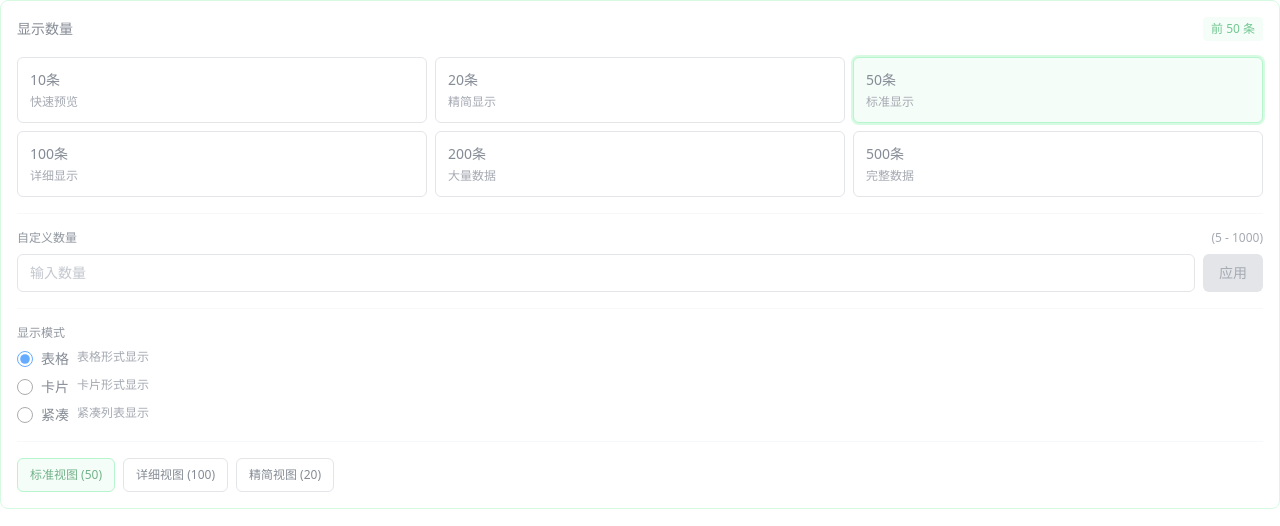
Test: HotWordLimitSelector › 自定义数量功能 › 应该通过回车键应用自定义数量
Type "85" into the number field with id "custom-limit" at (606, 273), box [17,254,1195,292]
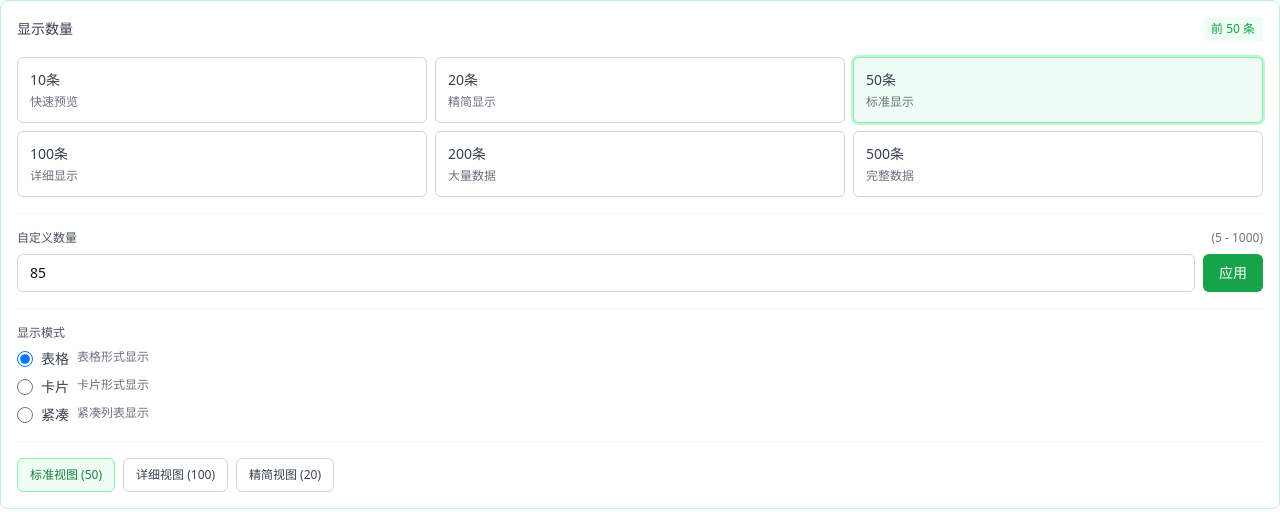
Press Enter in the number field with id "custom-limit", box [17,254,1195,292]
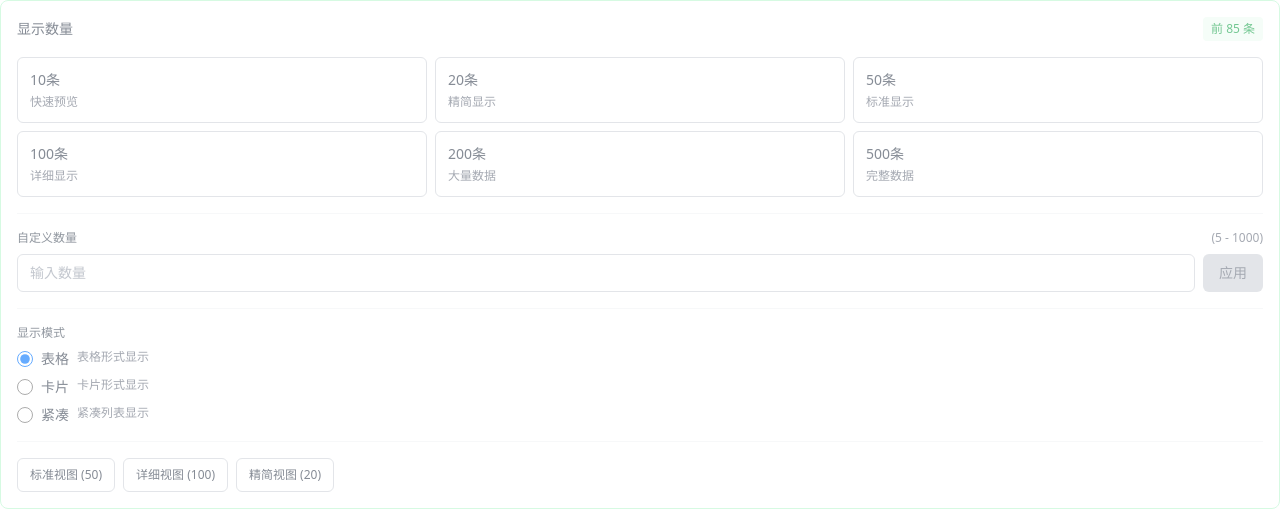
Check: the text with class "limit-display" reads "前 85 条", box [1211,20,1255,37]
